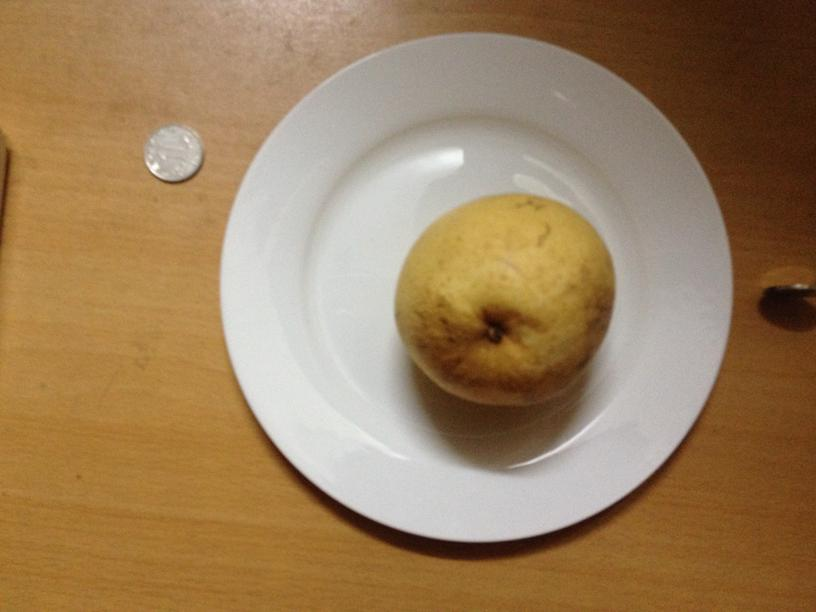coin: (144, 123, 203, 183)
pear: (396, 190, 617, 411)
